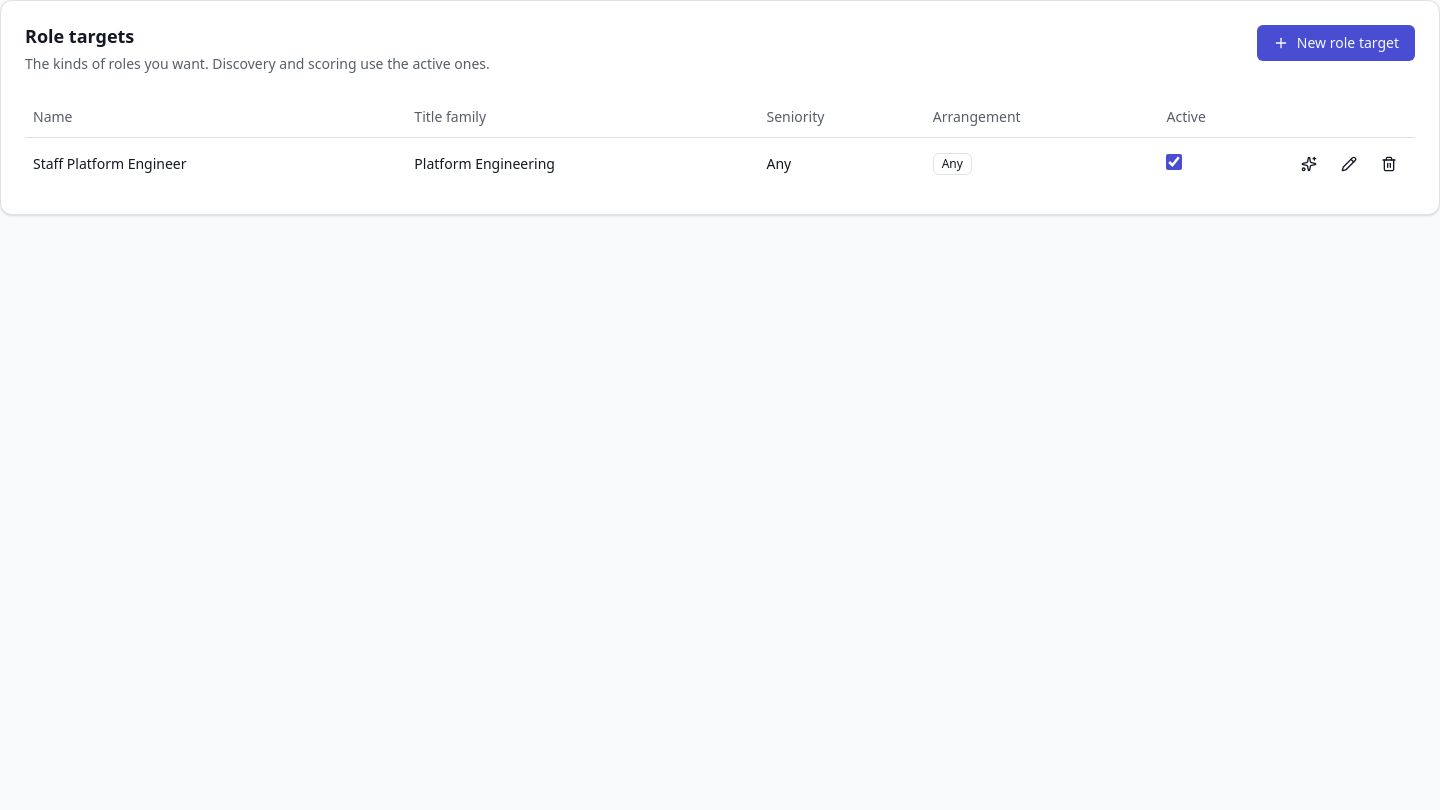
Test case: RoleTargetsSettings delete (issue #74) › keeps the dialog open and shows the error when the delete fails, instead of closing as if it had succeeded
Click the button named "Delete Staff Platform Engineer": [1389, 164] box top-left (1371, 146), bottom-right (1407, 182)
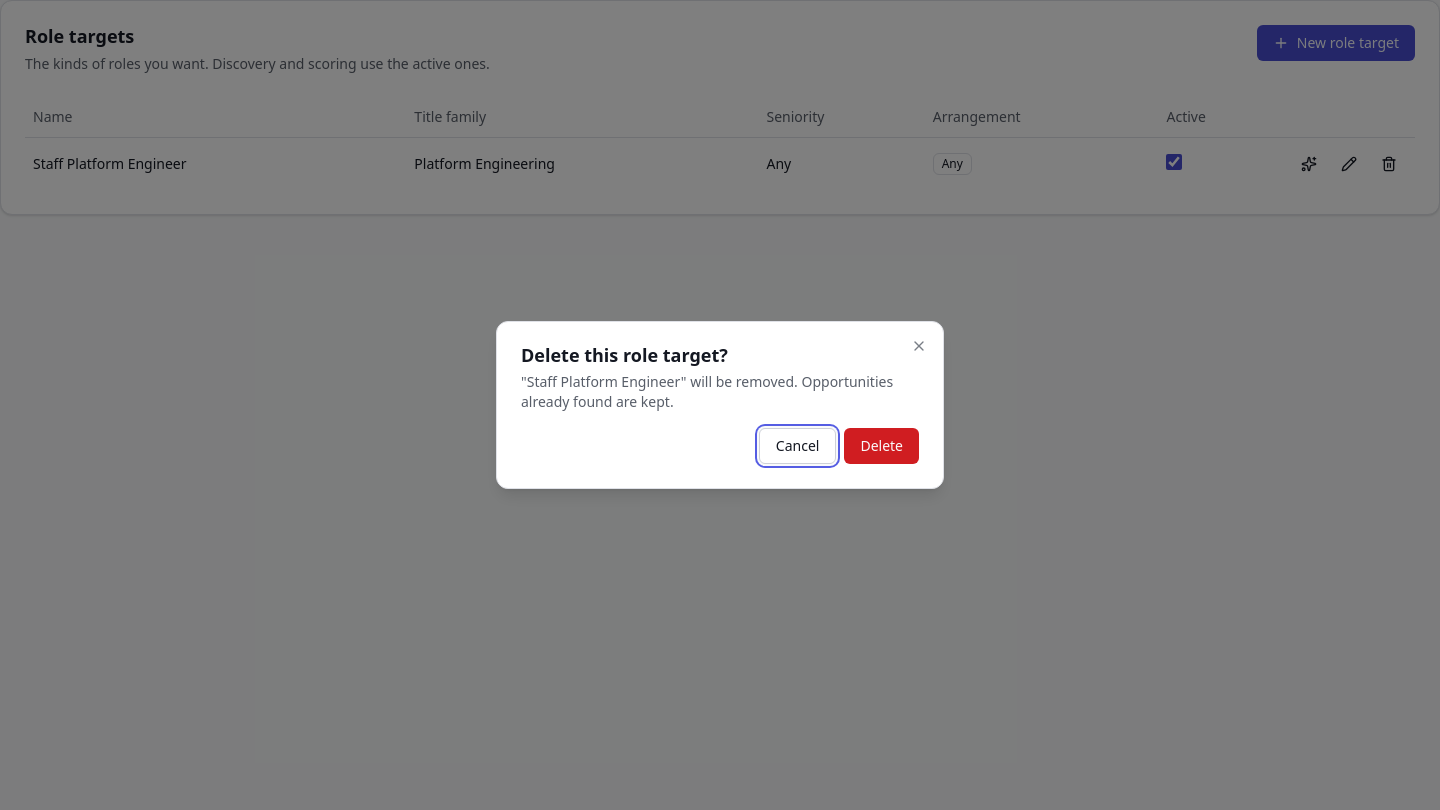
Click the button "Delete": [882, 446] box top-left (844, 428), bottom-right (919, 464)
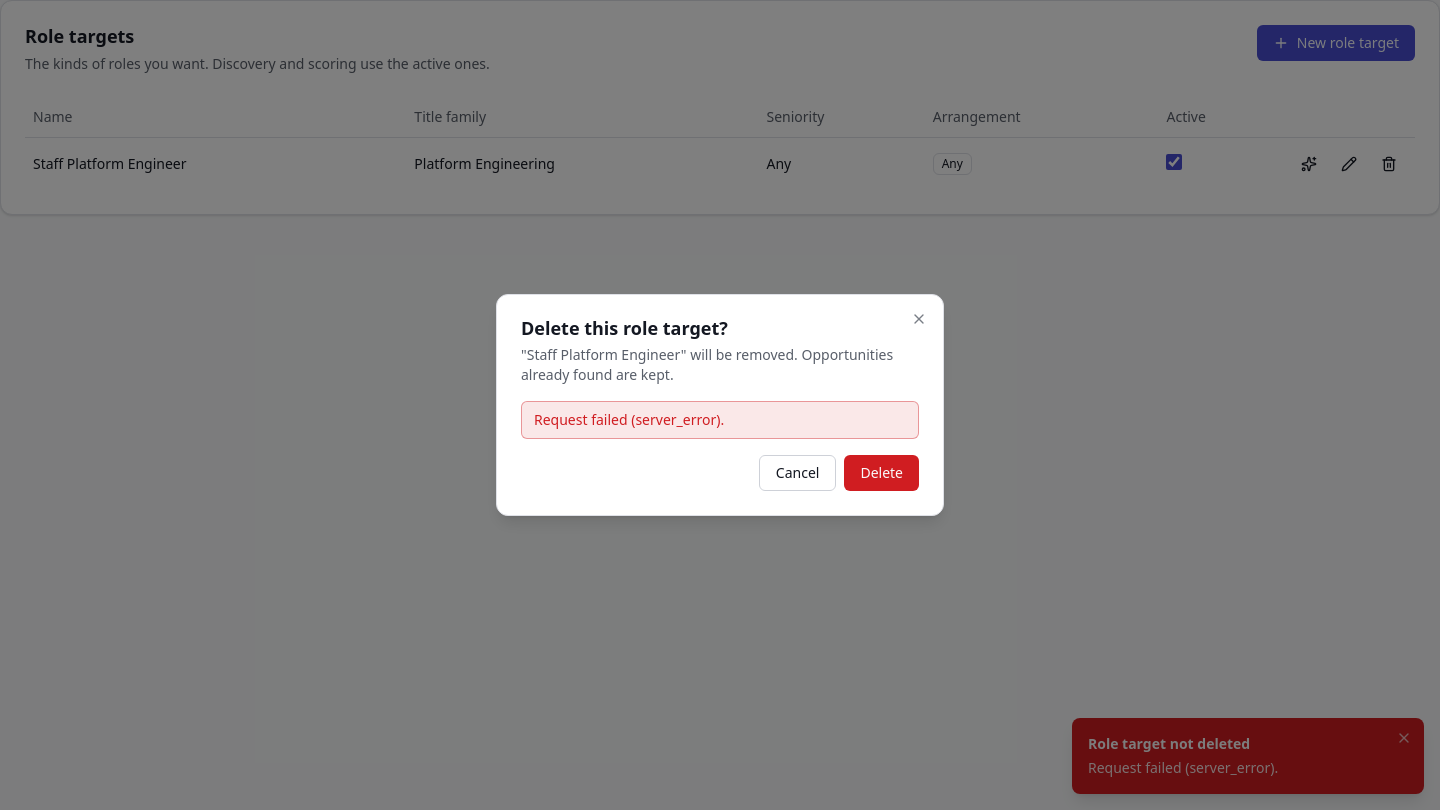
Now the dialog "Delete this role target?" is shown, box top-left (496, 294), bottom-right (944, 516)
Now the message shows "server_error", box top-left (534, 410), bottom-right (724, 429)
Now the text "Role target not deleted" is shown, box top-left (1088, 734), bottom-right (1250, 753)
